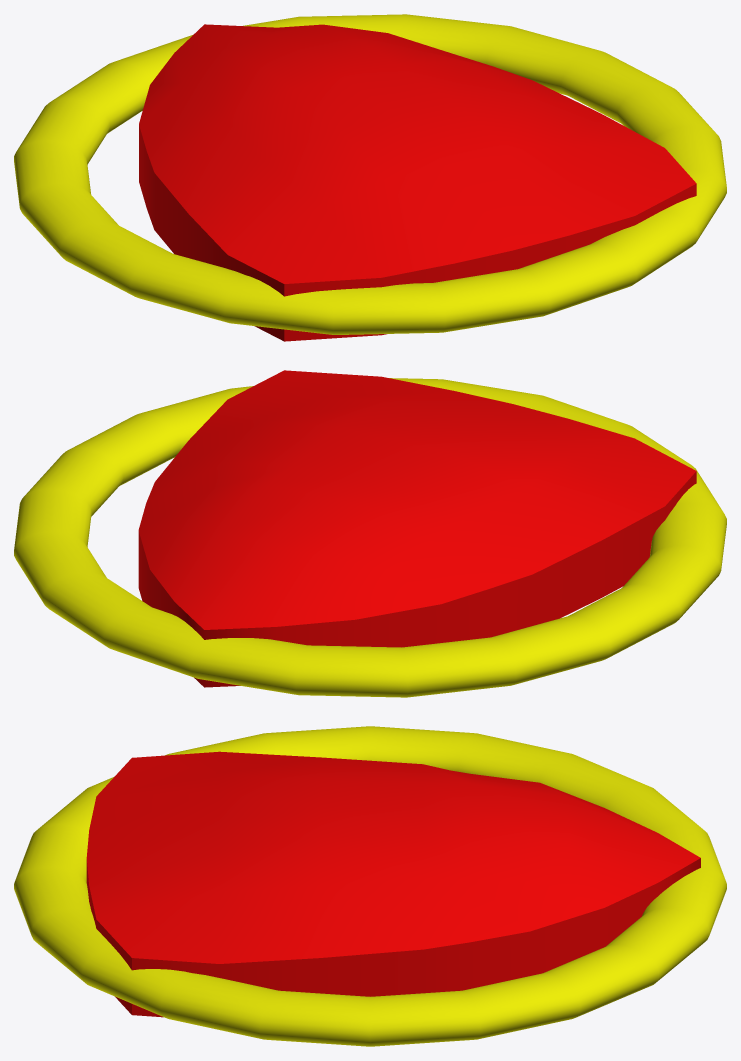
Rendered from ShieldIcon.fbx.
The picture shows the model from 3 angles, top to bottom: view 1: azimuth 30°, elevation 25°; view 2: azimuth 150°, elevation 25°; view 3: azimuth 270°, elevation 25°; orthographic projection.
Visible parts, largest first — view 1: polySurface27; view 2: polySurface27; view 3: polySurface27.
Boxes of the visible parts, box(x1,y1,x2,y2) form: polySurface27: box(14, 14, 726, 341); polySurface27: box(14, 370, 726, 697); polySurface27: box(14, 726, 726, 1046).
Bounding box in the file's own units: 9.7 × 1.6 × 9.7.
